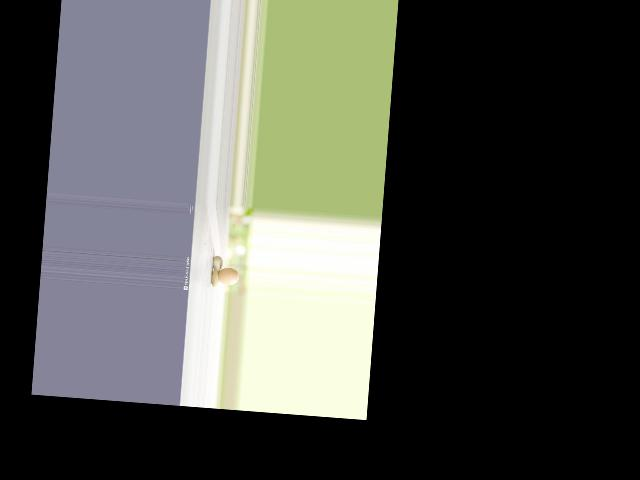egg: (216, 266, 239, 285)
